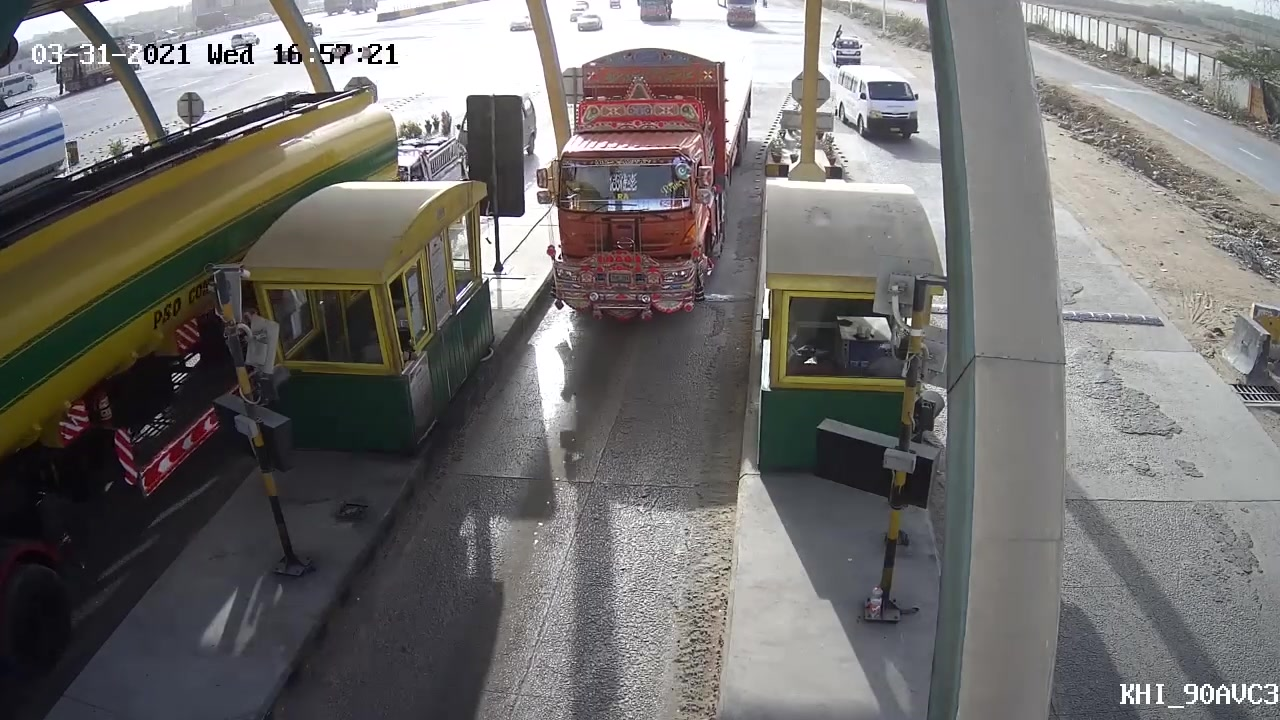F6: (536, 47, 759, 320)
